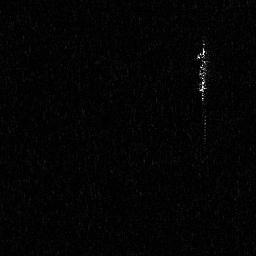ship: (198, 39, 212, 142)
